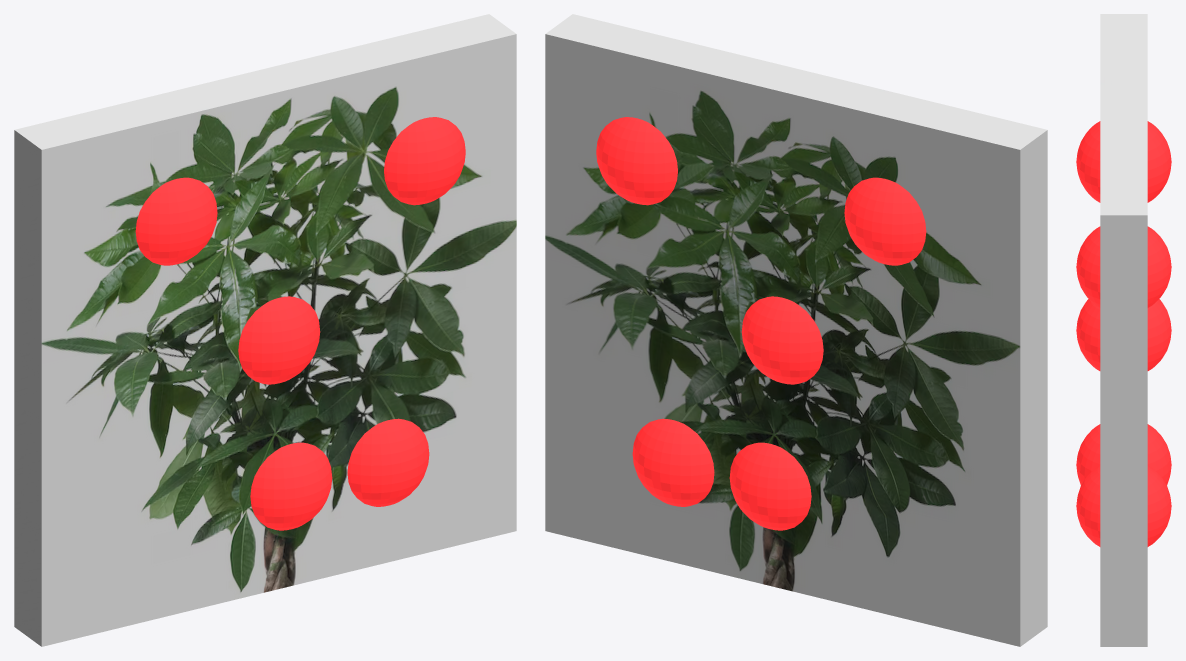
File: tomato_4.dae
3 renders of one model, left to right at view 1: azimuth 30°, elevation 25°; view 2: azimuth 150°, elevation 25°; view 3: azimuth 270°, elevation 25°, orthographic. The views are drawn at different scales.
Visible parts, largest first — view 1: Cube, Sphere, Sphere.004, Sphere.003, Sphere.001, Sphere.002; view 2: Cube, Sphere, Sphere.004, Sphere.003, Sphere.001, Sphere.002; view 3: Cube, Sphere.002, Sphere.001, Sphere.003, Sphere, Sphere.004.
Part boxes in pixels (<box>): Cube: <box>14,14,516,646</box>; Sphere: <box>238,296,320,384</box>; Sphere.004: <box>250,442,332,530</box>; Sphere.003: <box>347,418,429,506</box>; Sphere.001: <box>384,117,465,205</box>; Sphere.002: <box>135,177,217,265</box>; Cube: <box>545,14,1047,646</box>; Sphere: <box>741,296,823,384</box>; Sphere.004: <box>729,442,811,530</box>; Sphere.003: <box>632,418,714,506</box>; Sphere.001: <box>596,117,677,205</box>; Sphere.002: <box>844,177,926,265</box>; Cube: <box>1100,14,1147,646</box>; Sphere.002: <box>1076,121,1171,202</box>; Sphere.001: <box>1076,226,1171,307</box>; Sphere.003: <box>1076,465,1171,546</box>; Sphere: <box>1076,299,1171,370</box>; Sphere.004: <box>1076,424,1171,485</box>.
Bounding box in the file's own units: 1 × 0.2 × 1.
6 materials, 1 textured.
